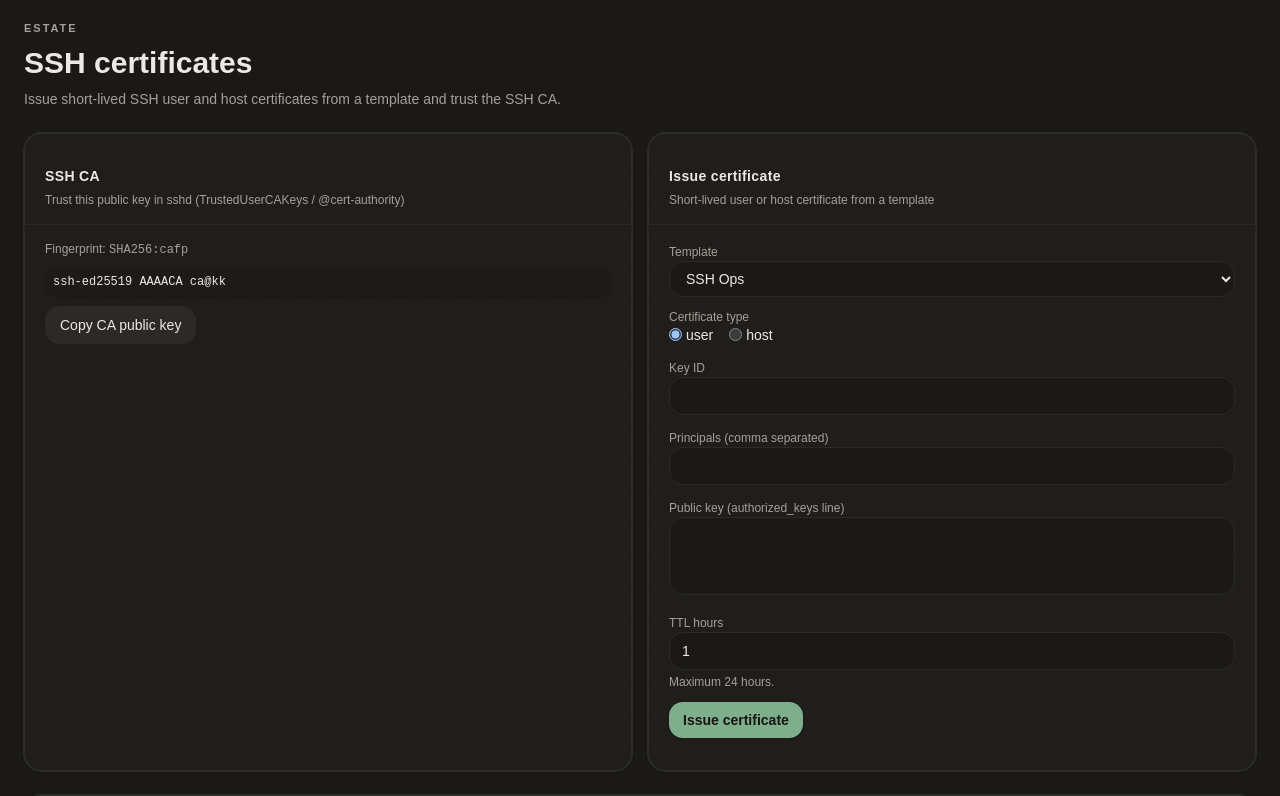
Test: SSH certificates page › renders the pending approval state
The image size is (1280, 796).
Type "kid-1" into the field labelled "Key ID" at (952, 396), box x1=669 y1=376 x2=1235 y2=414
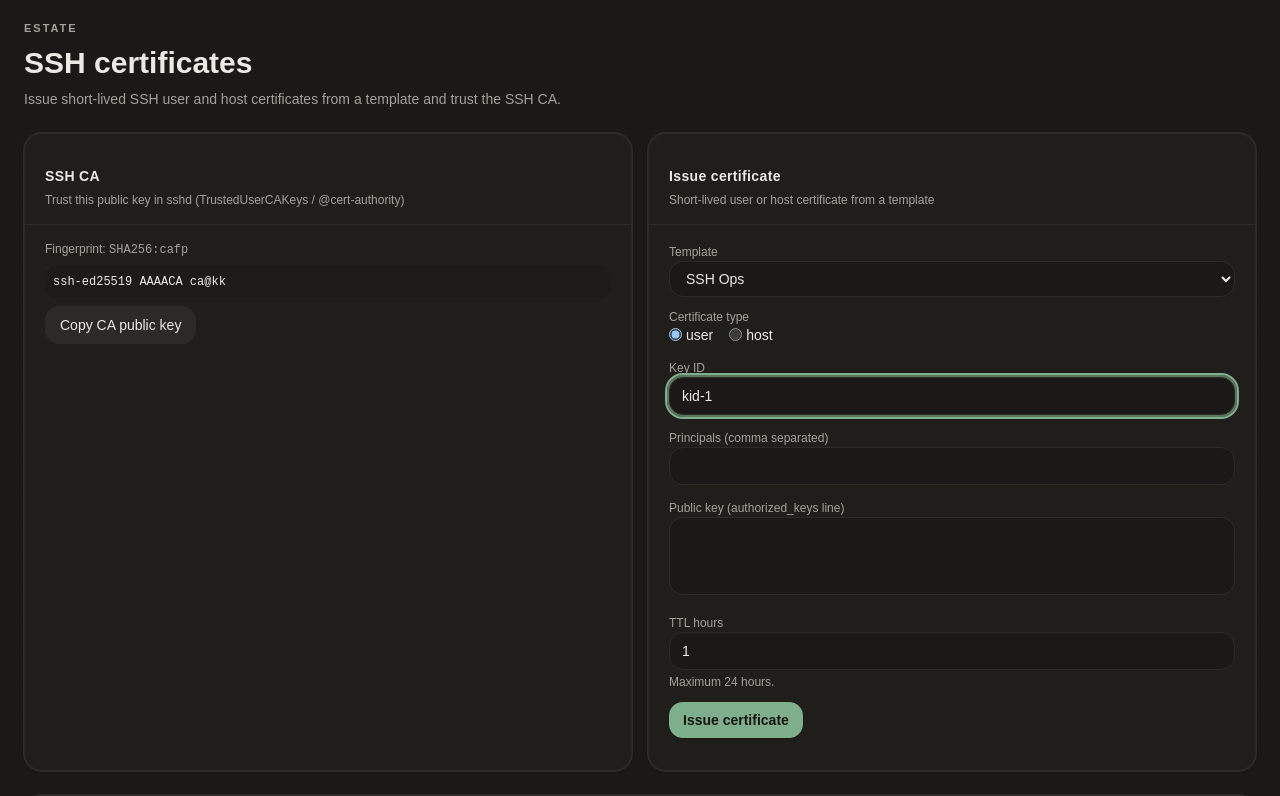
Type "alice" into the field labelled "Principals (comma separated)" at (952, 466), box x1=669 y1=446 x2=1235 y2=484
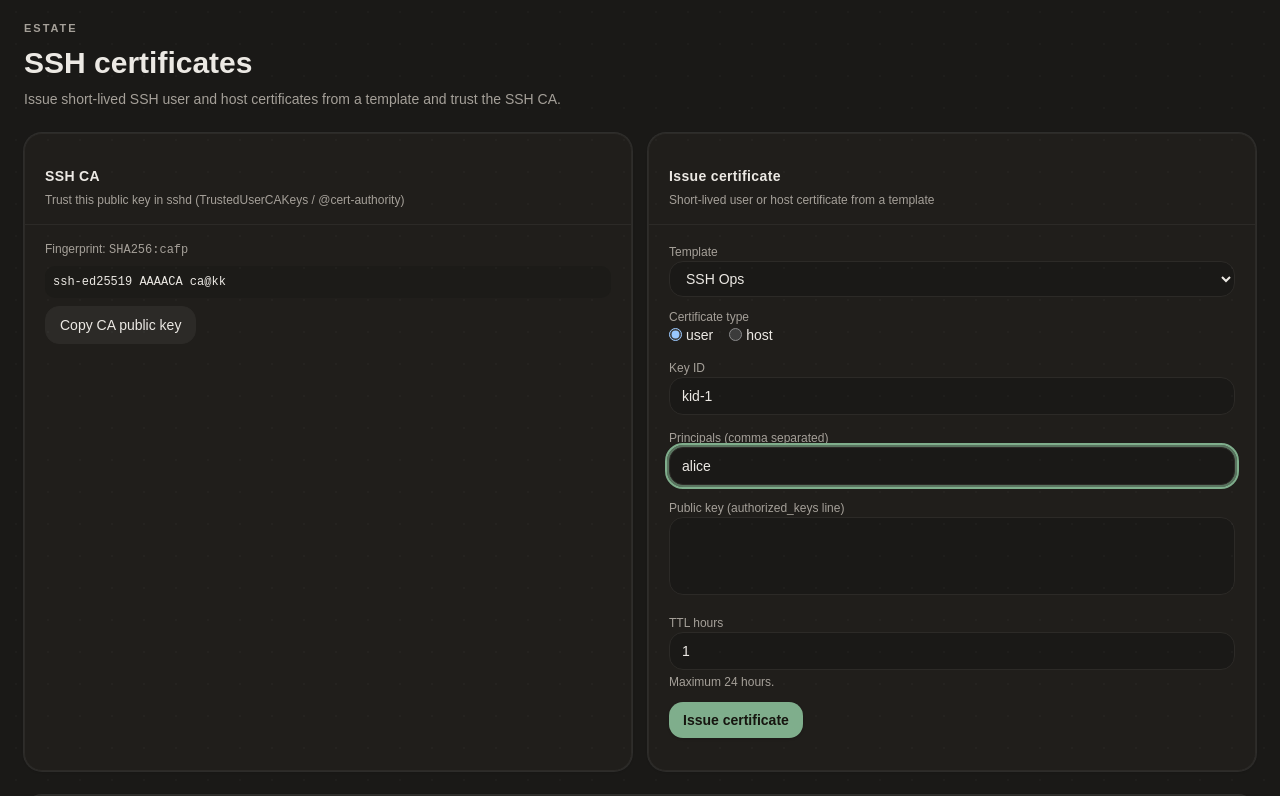
Click the text box labelled "Public key (authorized_keys line)" at (952, 556), box x1=669 y1=516 x2=1235 y2=594
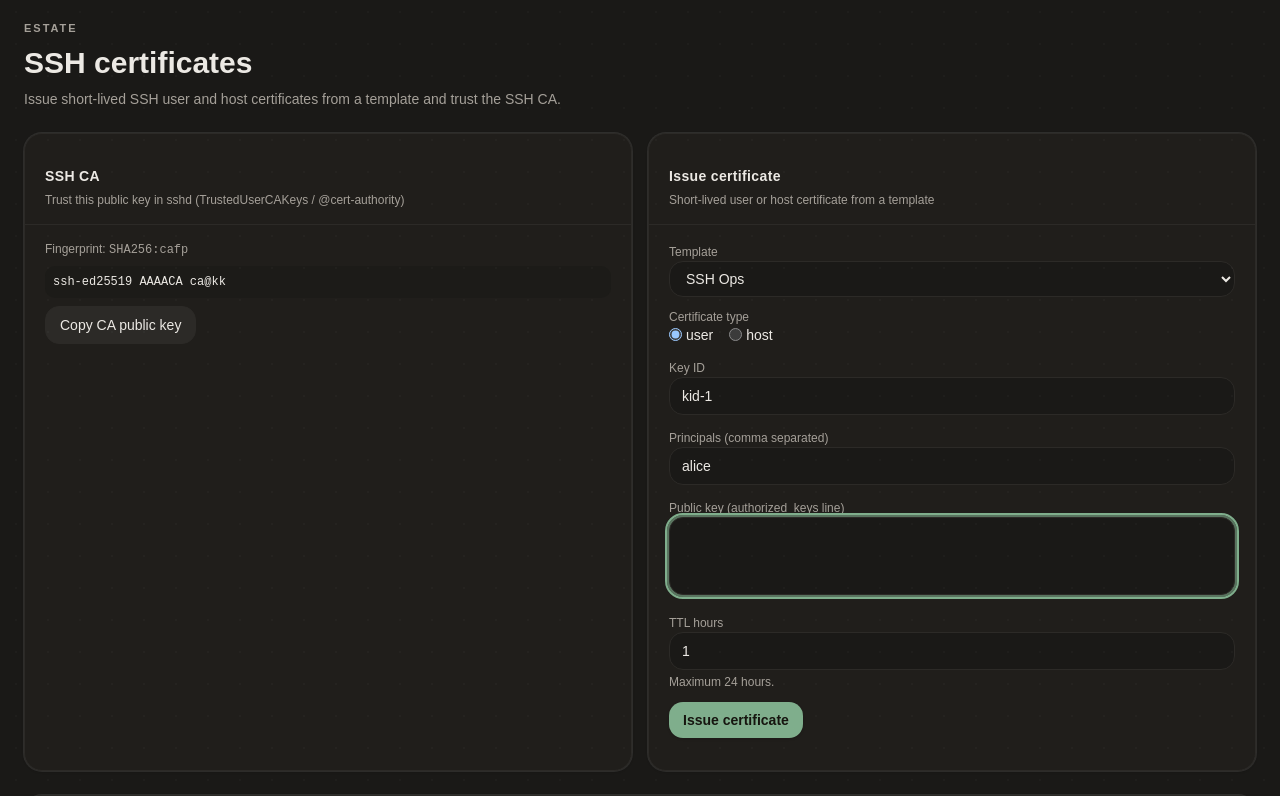
Type keys "ssh-ed25519 AAAAC3NzaC1lZDI1NTE5AAAAIabc user@laptop"
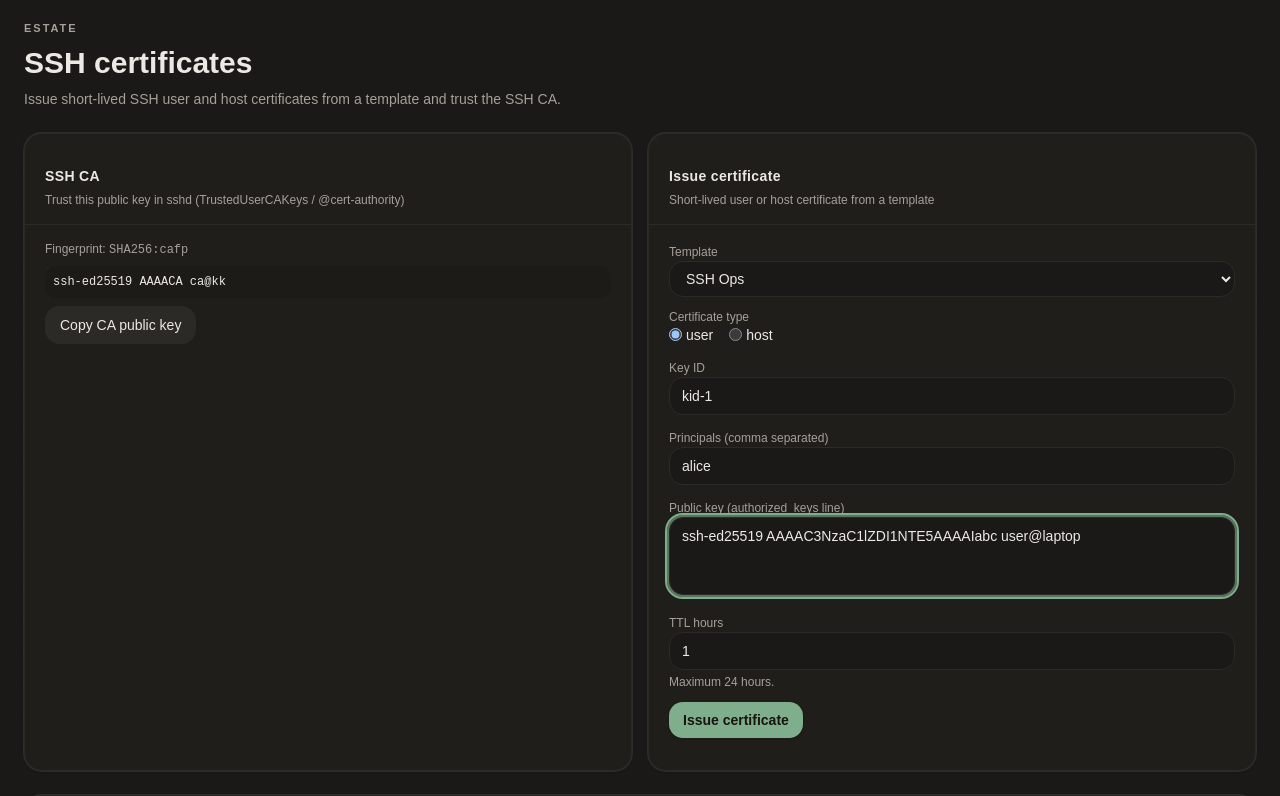
Replace the text in the number field labelled "TTL hours" with "8" at (952, 650), box x1=669 y1=632 x2=1235 y2=670
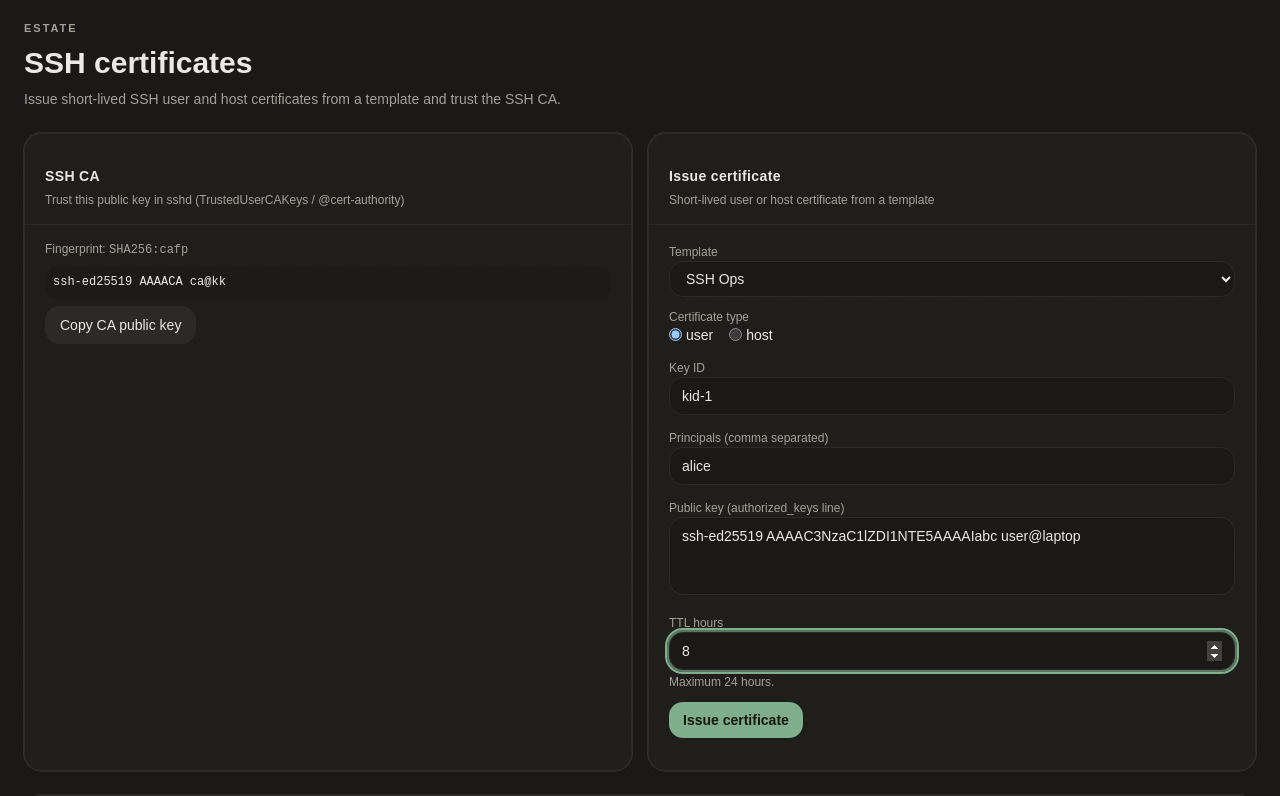
Click the button "Issue certificate" at (736, 720), box x1=669 y1=702 x2=803 y2=738
(page scrolled)
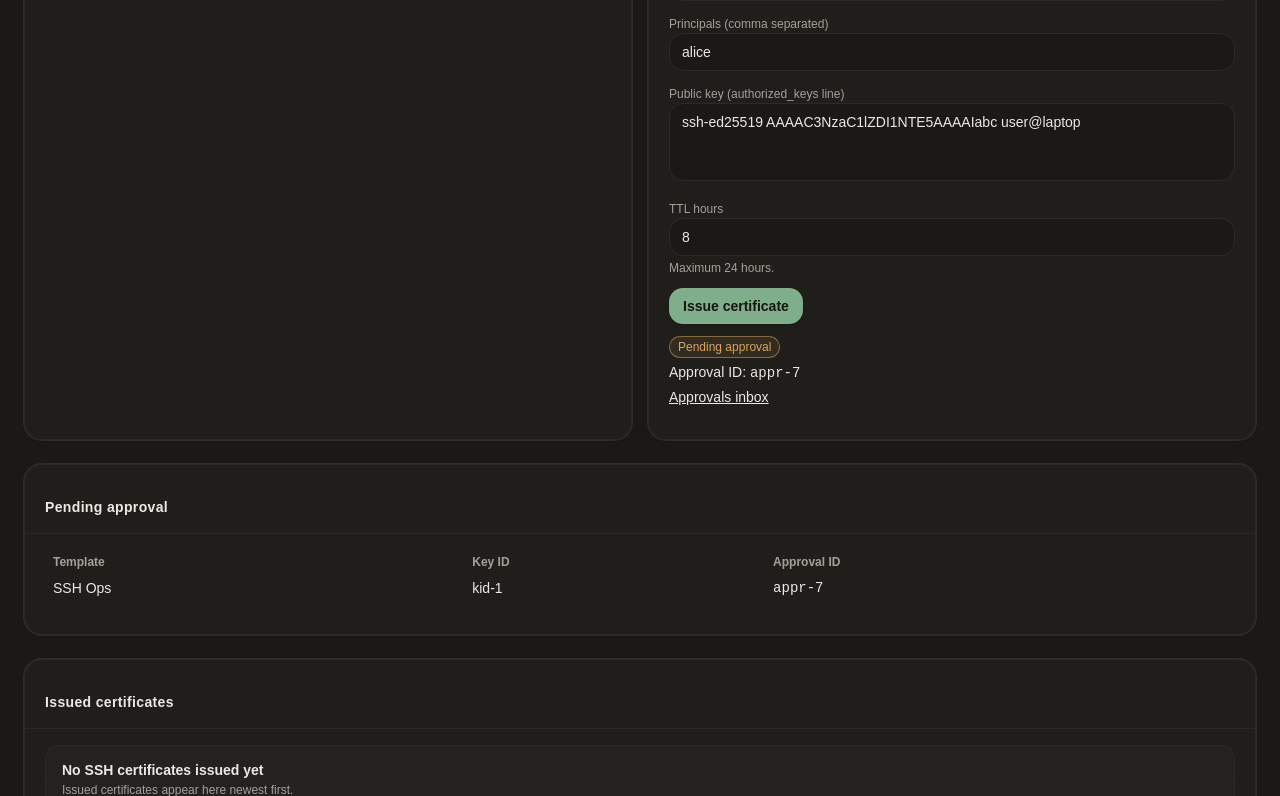
expect the text "appr-7" is shown: met, box x1=750 y1=364 x2=800 y2=380
